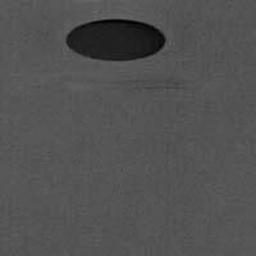Punching: (65, 18, 165, 63)
